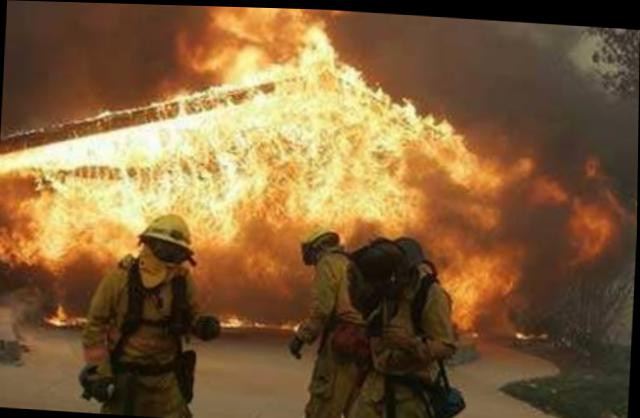fire: (0, 21, 518, 353)
